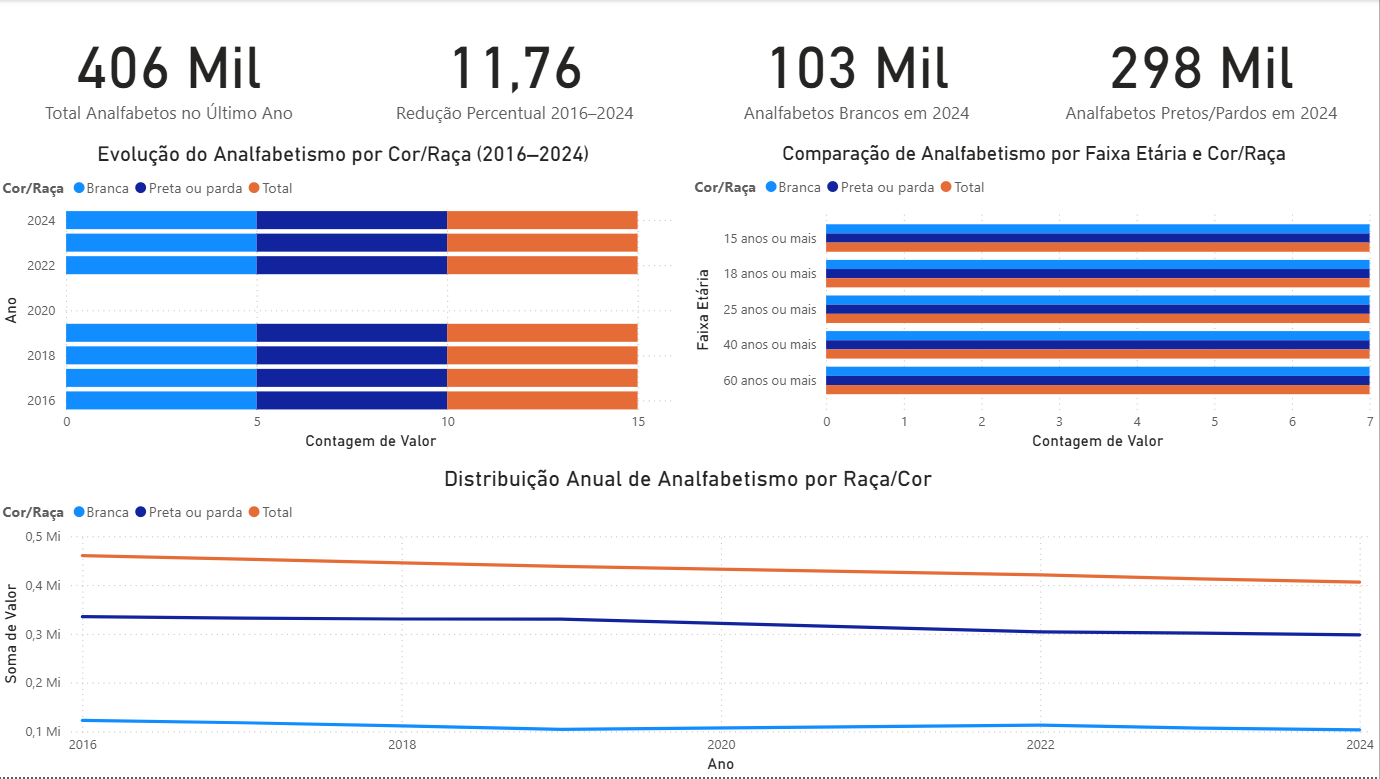

The page's visual inventory and layout, read from the dashboard file:
{"tool":"powerbi","page":{"name":"Página 1","canvas":[1280,720],"ordinal":0},"visuals":[{"type":"lineChart","title":"Distribuição Anual de Analfabetismo por Raça/Cor","fields":{"Category":["analfabetismo_transformado.Ano"],"Series":["analfabetismo_transformado.Cor/Raça"],"Y":["Sum(analfabetismo_transformado.Valor)"]},"box":[0,430.5,1280,290],"z":0},{"type":"clusteredBarChart","title":"Comparação de Analfabetismo por Faixa Etária e Cor/Raça","fields":{"Series":["analfabetismo_transformado.Cor/Raça"],"Category":["analfabetismo_transformado.Faixa Etária"],"Y":["CountNonNull(analfabetismo_transformado.Valor)"]},"box":[640.6,131.5,639.4,290],"z":2},{"type":"card","title":"Total de analfabetos no Último Ano","fields":{"Values":["analfabetismo_transformado.Total Analfabetos Último Ano"]},"box":[0,0,318.4,131.5],"z":3},{"type":"card","fields":{"Values":["analfabetismo_transformado.Reducao Percentual 2016_2024"]},"box":[318.4,0,322.3,131.5],"z":4},{"type":"card","fields":{"Values":["analfabetismo_transformado.PretosPardos_2024"]},"box":[951.3,0,328.7,131.5],"z":5},{"type":"card","fields":{"Values":["analfabetismo_transformado.Brancos_2024"]},"box":[640.6,0,310.7,131.5],"z":6},{"type":"barChart","title":"Evolução do Analfabetismo por Cor/Raça (2016–2024)","fields":{"Y":["CountNonNull(analfabetismo_transformado.Valor)"],"Category":["analfabetismo_transformado.Ano"],"Series":["analfabetismo_transformado.Cor/Raça"]},"box":[0,131.5,640.6,290],"z":7}]}

Visuals, with their boxes in screenshot pixels (x1, y1, x2, y2), scaled from the page's 1280x720 canvas onto the 1380x779 screenshot:
"Distribuição Anual de Analfabetismo por Raça/Cor" lineChart: (0,466,1379,778)
"Comparação de Analfabetismo por Faixa Etária e Cor/Raça" clusteredBarChart: (691,142,1379,456)
"Total de analfabetos no Último Ano" card: (0,0,343,142)
card - analfabetismo_transformado.Reducao Percentual 2016_2024: (343,0,691,142)
card - analfabetismo_transformado.PretosPardos_2024: (1026,0,1379,142)
card - analfabetismo_transformado.Brancos_2024: (691,0,1026,142)
"Evolução do Analfabetismo por Cor/Raça (2016–2024)" barChart: (0,142,691,456)
